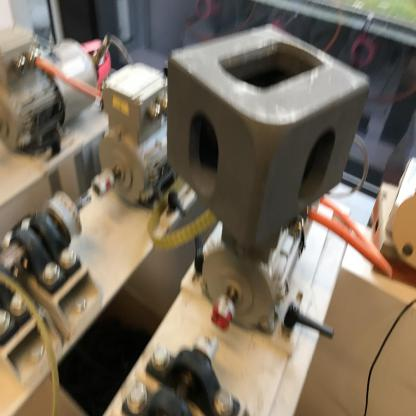CornerCasting: (166, 15, 374, 250)
